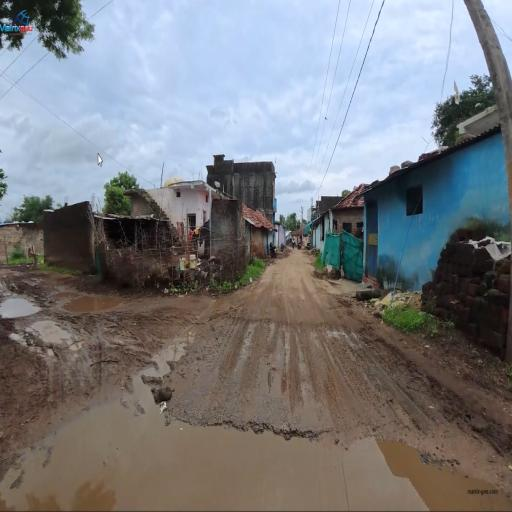longitudinal_crack: (179, 403, 426, 451)
